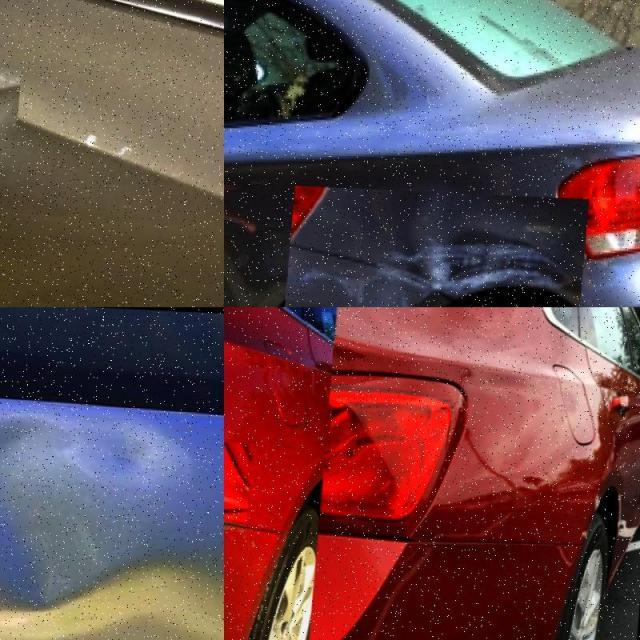car damage: (8, 504, 118, 613), (82, 416, 200, 498), (0, 410, 82, 482), (0, 78, 21, 147)
